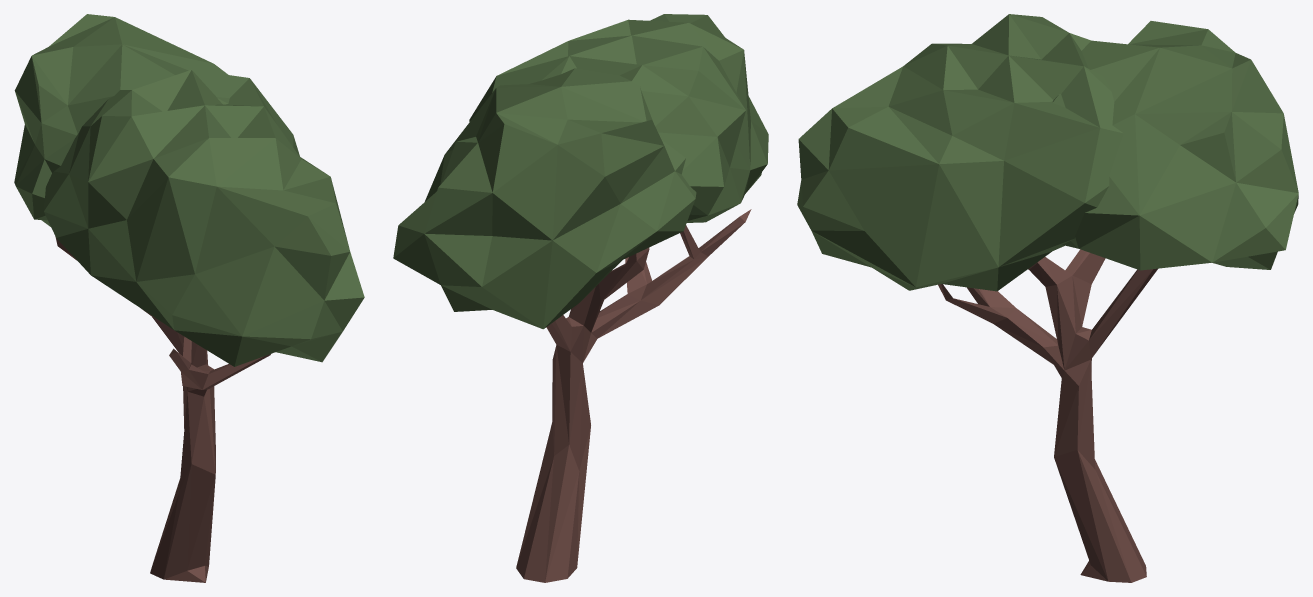
The model's file is CommonTree_5.lod2.glb.
The picture shows the model from 3 angles, left to right: view 1: azimuth 30°, elevation 25°; view 2: azimuth 150°, elevation 25°; view 3: azimuth 270°, elevation 25°; orthographic projection. The views are drawn at different scales.
Parts seen in each view (by area): view 1: CommonTree_5; view 2: CommonTree_5; view 3: CommonTree_5.
Part boxes in pixels (left/top/right/bottom): CommonTree_5: left=14, top=14, right=364, bottom=582; CommonTree_5: left=393, top=14, right=768, bottom=582; CommonTree_5: left=797, top=14, right=1298, bottom=582.
Size of the model in its own units: 1.29 by 2.52 by 2.25.
